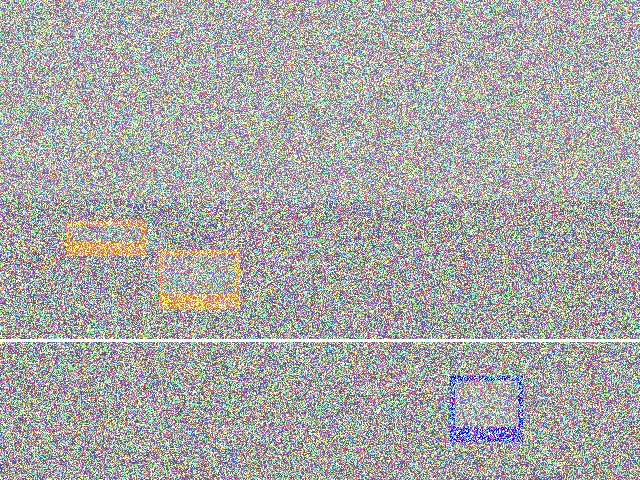bus: (381, 225, 476, 324)
motorcycle: (372, 197, 454, 247)
